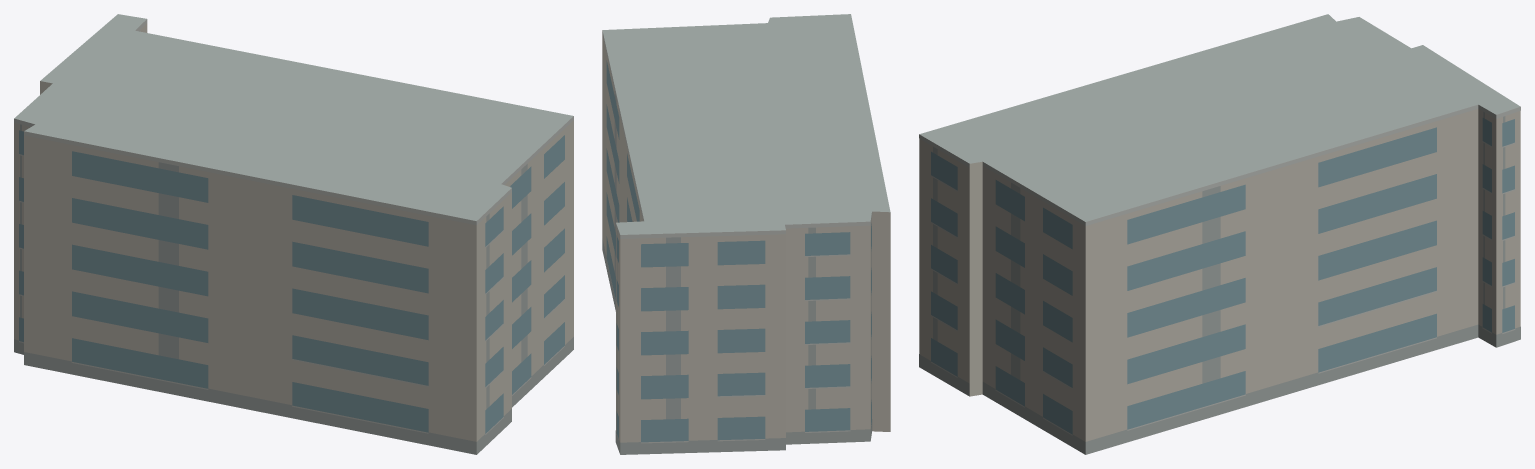
File: survey-upis-32677225.glb
3 views of the same model, side by side, from view 1: azimuth 30°, elevation 25°; view 2: azimuth 150°, elevation 25°; view 3: azimuth 270°, elevation 25° (orthographic). The views are drawn at different scales.
Parts seen in each view (by area): view 1: survey-upis-32677225.tmp; view 2: survey-upis-32677225.tmp; view 3: survey-upis-32677225.tmp.
Part boxes in pixels (x1,y1,x2,y2): survey-upis-32677225.tmp: (14,14,573,454); survey-upis-32677225.tmp: (602,14,890,454); survey-upis-32677225.tmp: (919,14,1520,454).
Bounding box in the file's own units: 26.26 × 13.7 × 32.09.
